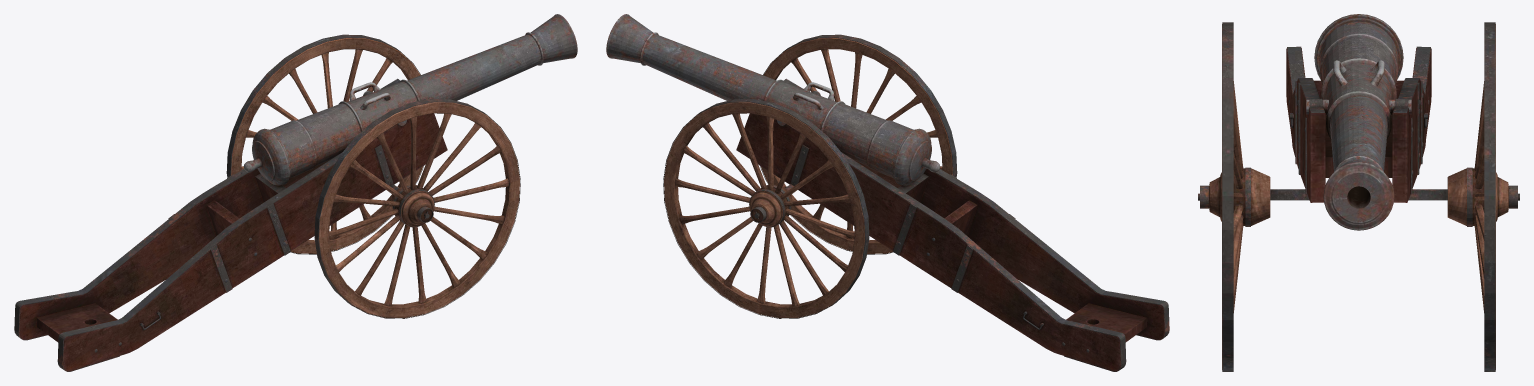
Rendered from Canioon2k.887ddb30.glb.
3 views of the same model, side by side, from view 1: azimuth 30°, elevation 25°; view 2: azimuth 150°, elevation 25°; view 3: azimuth 270°, elevation 25° (orthographic). The views are drawn at different scales.
Size of the model in its own units: 0.3954 by 0.1571 by 0.1387.
1 material, 1 textured.
